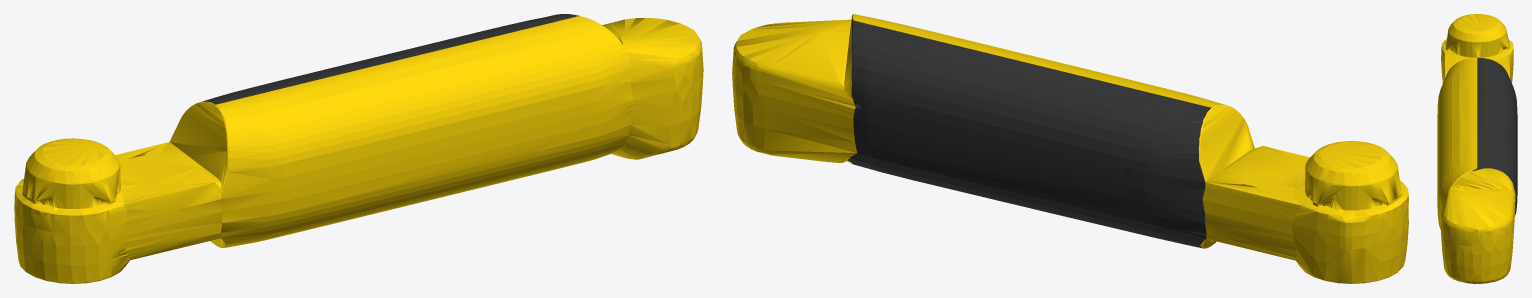
Rendered from arm_link_sh1.obj.
3 renders of one model, left to right at view 1: azimuth 30°, elevation 25°; view 2: azimuth 150°, elevation 25°; view 3: azimuth 270°, elevation 25°, orthographic. The views are drawn at different scales.
Visible parts, largest first — view 1: arm0.link_hr0.003_BlackAbs, arm0.link_hr0.003_wrap; view 2: arm0.link_hr0.003_wrap, arm0.link_hr0.003_BlackAbs; view 3: arm0.link_hr0.003_BlackAbs, arm0.link_hr0.003_wrap.
Part boxes in pixels (<box>): arm0.link_hr0.003_BlackAbs: <box>14,16,703,283</box>; arm0.link_hr0.003_wrap: <box>203,14,579,104</box>; arm0.link_hr0.003_wrap: <box>848,17,1211,248</box>; arm0.link_hr0.003_BlackAbs: <box>732,14,1408,283</box>; arm0.link_hr0.003_BlackAbs: <box>1437,14,1515,283</box>; arm0.link_hr0.003_wrap: <box>1471,57,1517,215</box>.
Size of the model in its own units: 0.3984 by 0.0824 by 0.0661.
